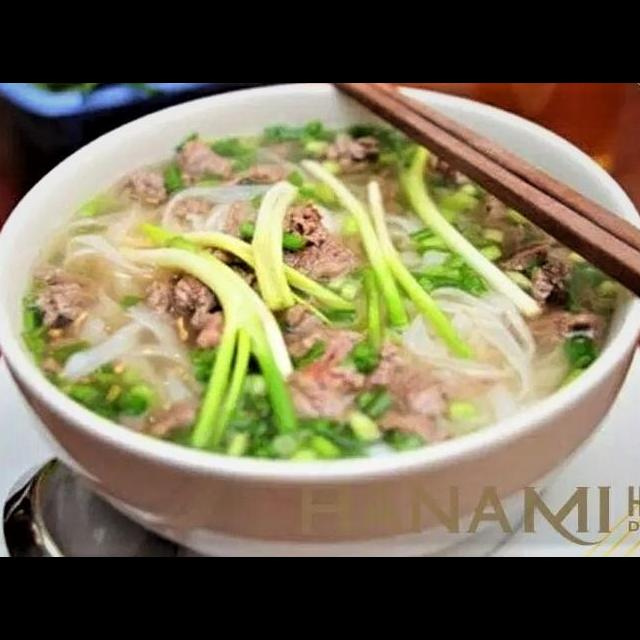banh pho: (49, 208, 200, 397), (388, 277, 543, 407)
pho bo: (5, 99, 640, 532)
thit bo: (261, 295, 454, 448), (199, 190, 380, 293), (141, 263, 256, 355), (486, 236, 584, 313), (27, 258, 100, 359), (514, 293, 617, 361), (175, 135, 235, 181), (114, 162, 170, 203)
